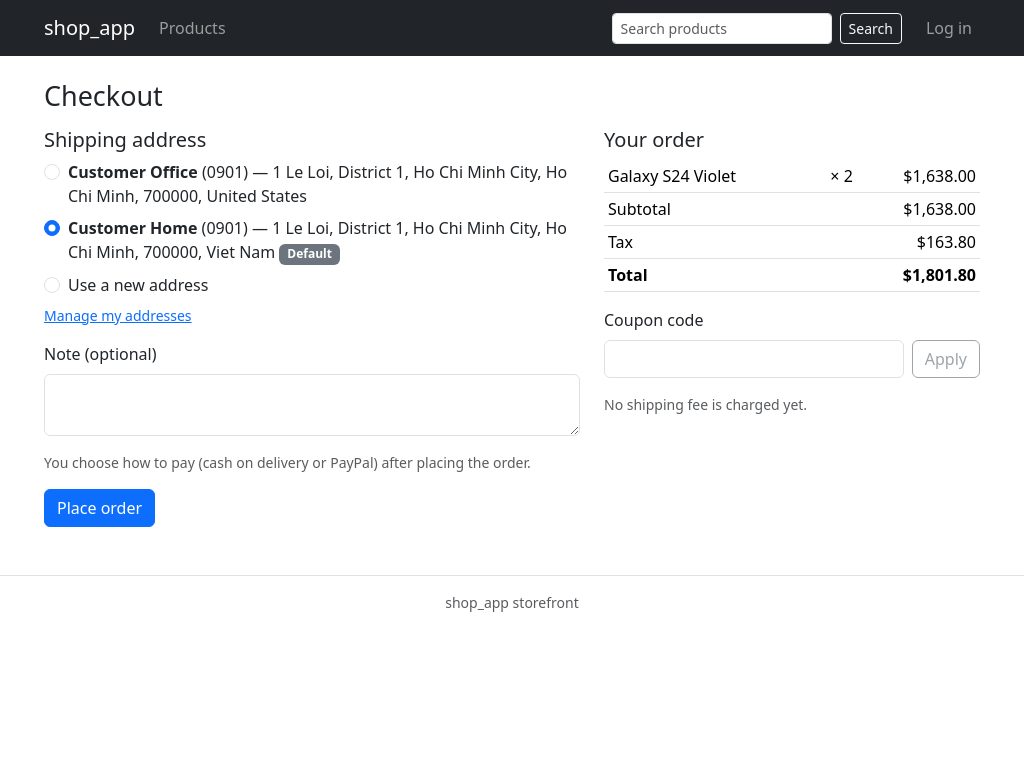
Scenario: Checkout page › refreshes the summary from the server when another address is chosen
Expected: the cell with test id "checkout-tax" reads "$163.80", left=917, top=231, right=976, bottom=253
Click the radio button labelled "Customer Office" at (52, 172), box left=44, top=164, right=60, bottom=180
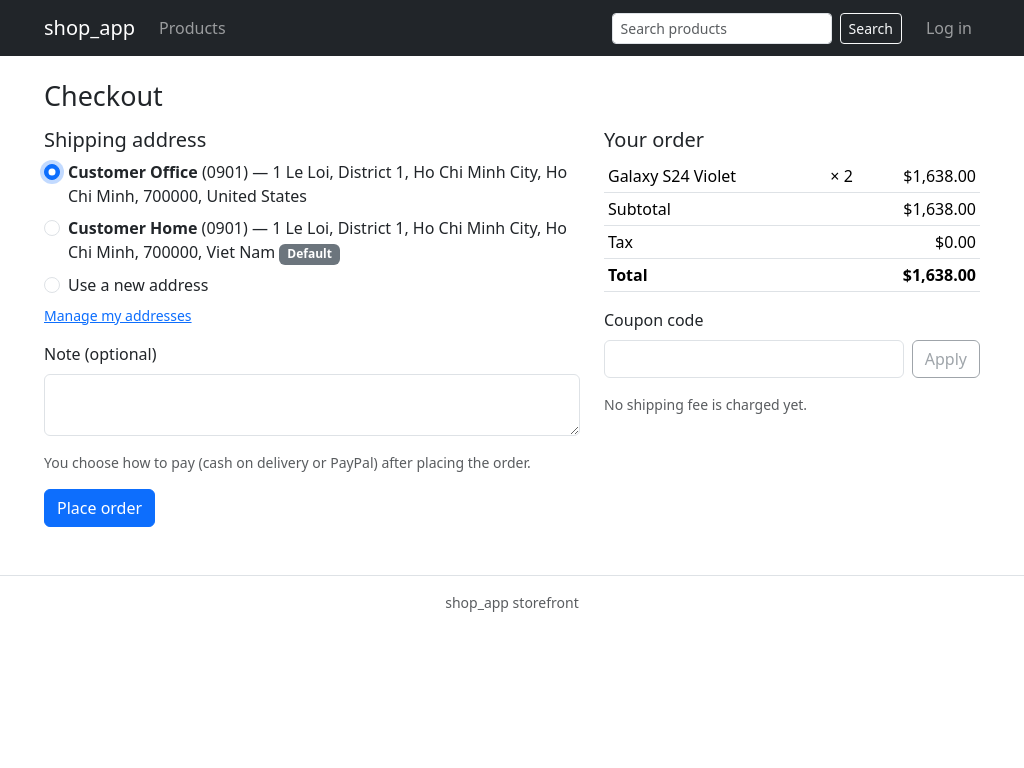
Expected: the column heading with test id "checkout-total" reads "$1,638.00", left=903, top=264, right=976, bottom=286
Expected: the cell with test id "checkout-tax" reads "$0.00", left=935, top=231, right=976, bottom=253
